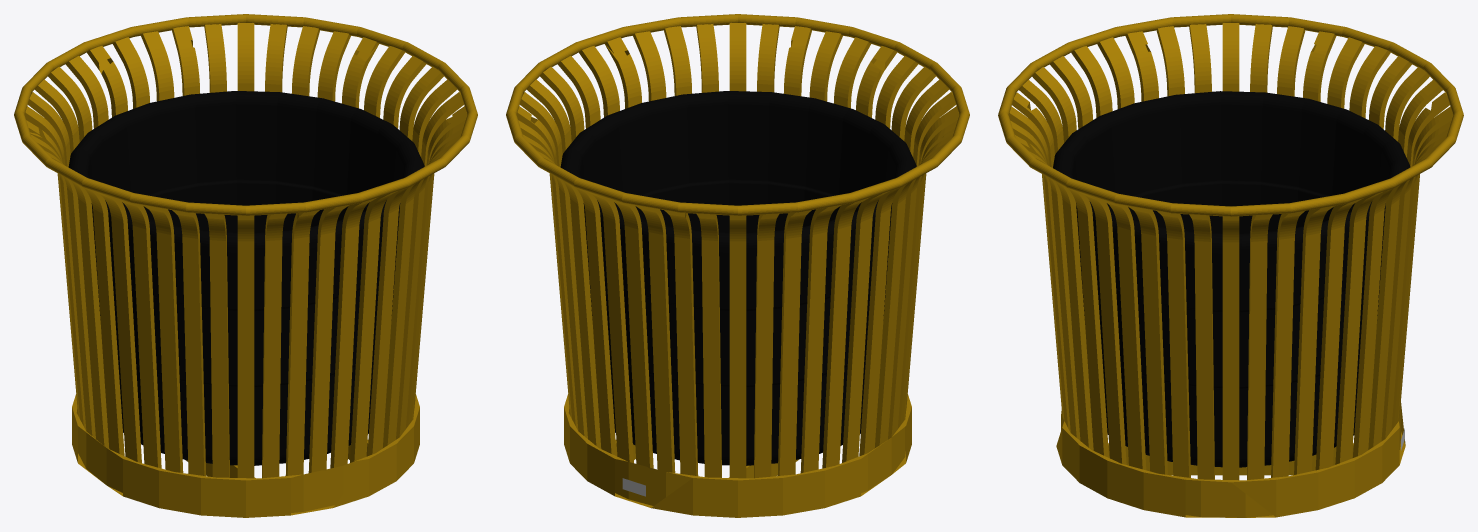
3 views of the same model, side by side, from view 1: azimuth 30°, elevation 25°; view 2: azimuth 150°, elevation 25°; view 3: azimuth 270°, elevation 25° (orthographic).
Visible parts, largest first — view 1: mesh1.001_mesh1-geometry, mesh5.001_mesh5-geometry, mesh3.001_mesh3-geometry, mesh51.001_mesh51-geometry, mesh50.001_mesh50-geometry, mesh45.001_mesh45-geometry, mesh10.001_mesh10-geometry, mesh57.001_mesh57-geometry, mesh46.001_mesh46-geometry, mesh42.001_mesh42-geometry, mesh25.001_mesh25-geometry, mesh19.001_mesh19-geometry (+33 smaller); view 2: mesh1.001_mesh1-geometry, mesh5.001_mesh5-geometry, mesh3.001_mesh3-geometry, mesh16.001_mesh16-geometry, mesh47.001_mesh47-geometry, mesh24.001_mesh24-geometry, mesh49.001_mesh49-geometry, mesh29.001_mesh29-geometry, mesh17.001_mesh17-geometry, mesh9.001_mesh9-geometry, mesh23.001_mesh23-geometry, mesh48.001_mesh48-geometry (+33 smaller); view 3: mesh1.001_mesh1-geometry, mesh5.001_mesh5-geometry, mesh3.001_mesh3-geometry, mesh18.001_mesh18-geometry, mesh56.001_mesh56-geometry, mesh44.001_mesh44-geometry, mesh12.001_mesh12-geometry, mesh4.001_mesh4-geometry, mesh14.001_mesh14-geometry, mesh52.001_mesh52-geometry, mesh37.001_mesh37-geometry, mesh54.001_mesh54-geometry (+34 smaller).
Part boxes in pixels (x1=…): mesh1.001_mesh1-geometry: x1=68, y1=91, x2=424, y2=465; mesh5.001_mesh5-geometry: x1=72, y1=394, x2=419, y2=517; mesh3.001_mesh3-geometry: x1=14, y1=14, x2=477, y2=215; mesh51.001_mesh51-geometry: x1=142, y1=205, x2=183, y2=472; mesh50.001_mesh50-geometry: x1=308, y1=205, x2=349, y2=473; mesh45.001_mesh45-geometry: x1=285, y1=210, x2=319, y2=475; mesh10.001_mesh10-geometry: x1=172, y1=210, x2=206, y2=475; mesh57.001_mesh57-geometry: x1=204, y1=213, x2=229, y2=477; mesh46.001_mesh46-geometry: x1=262, y1=213, x2=287, y2=478; mesh42.001_mesh42-geometry: x1=237, y1=215, x2=254, y2=478; mesh25.001_mesh25-geometry: x1=330, y1=197, x2=377, y2=468; mesh19.001_mesh19-geometry: x1=114, y1=197, x2=161, y2=468; mesh1.001_mesh1-geometry: x1=560, y1=91, x2=916, y2=465; mesh5.001_mesh5-geometry: x1=564, y1=394, x2=911, y2=517; mesh3.001_mesh3-geometry: x1=506, y1=14, x2=969, y2=215; mesh16.001_mesh16-geometry: x1=634, y1=205, x2=675, y2=472; mesh47.001_mesh47-geometry: x1=777, y1=210, x2=811, y2=475; mesh24.001_mesh24-geometry: x1=800, y1=205, x2=841, y2=473; mesh49.001_mesh49-geometry: x1=664, y1=210, x2=698, y2=475; mesh29.001_mesh29-geometry: x1=696, y1=213, x2=721, y2=477; mesh17.001_mesh17-geometry: x1=754, y1=213, x2=779, y2=478; mesh9.001_mesh9-geometry: x1=729, y1=215, x2=746, y2=478; mesh23.001_mesh23-geometry: x1=822, y1=197, x2=869, y2=468; mesh48.001_mesh48-geometry: x1=606, y1=197, x2=653, y2=468; mesh1.001_mesh1-geometry: x1=1053, y1=91, x2=1410, y2=467; mesh5.001_mesh5-geometry: x1=1056, y1=402, x2=1405, y2=517; mesh3.001_mesh3-geometry: x1=998, y1=14, x2=1463, y2=216; mesh18.001_mesh18-geometry: x1=1127, y1=205, x2=1167, y2=474; mesh56.001_mesh56-geometry: x1=1294, y1=205, x2=1334, y2=474; mesh44.001_mesh44-geometry: x1=1271, y1=211, x2=1304, y2=477; mesh12.001_mesh12-geometry: x1=1157, y1=211, x2=1190, y2=477; mesh4.001_mesh4-geometry: x1=1189, y1=214, x2=1214, y2=479; mesh14.001_mesh14-geometry: x1=1247, y1=214, x2=1272, y2=479; mesh52.001_mesh52-geometry: x1=1315, y1=198, x2=1363, y2=470; mesh37.001_mesh37-geometry: x1=1222, y1=216, x2=1239, y2=480; mesh54.001_mesh54-geometry: x1=1098, y1=198, x2=1146, y2=470.
Size of the model in its own units: 0.6165 by 0.4899 by 0.6165.
